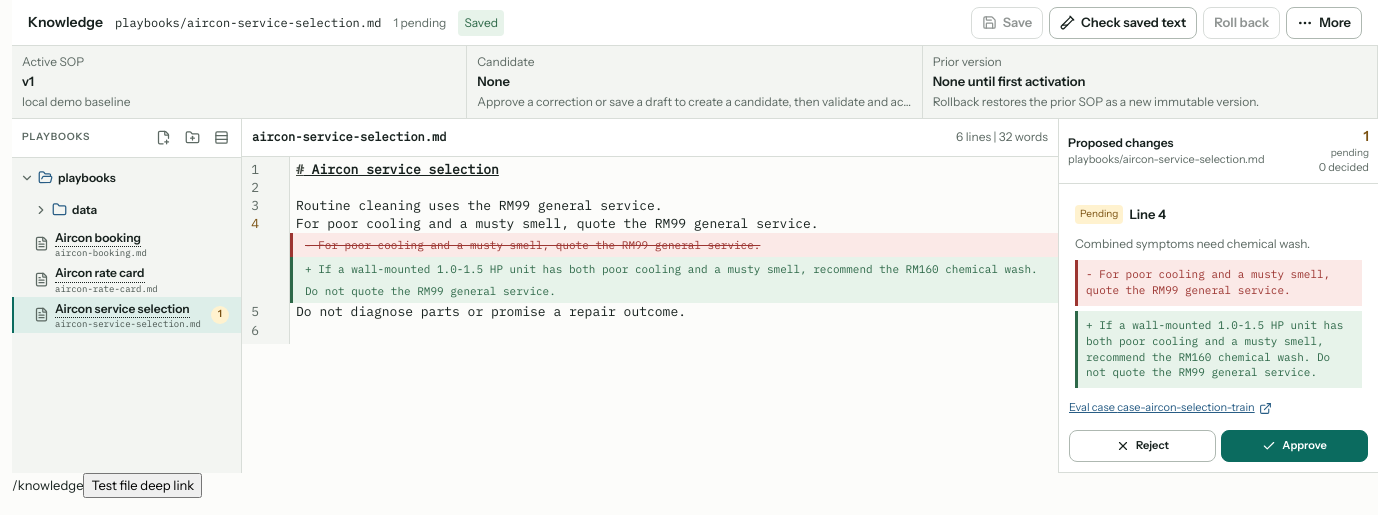
Test: Knowledge route › rejects without changing saved text and removes the completed proposal pane
Click the button with aria-label "Reject correction" at (1142, 446), box [1069, 430, 1216, 462]
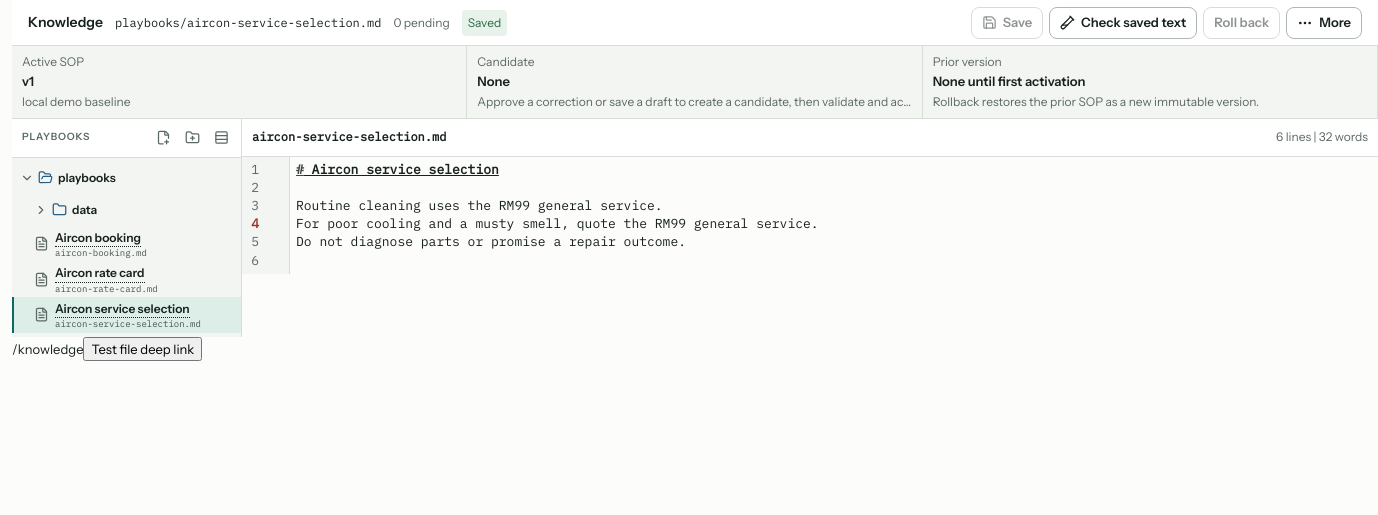
expect the text "Proposed changes" is gone: met
